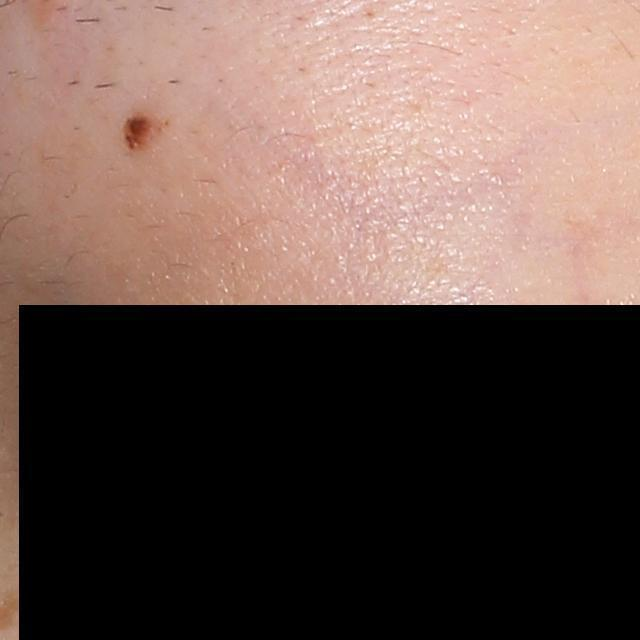nevus: (120, 108, 170, 155)
